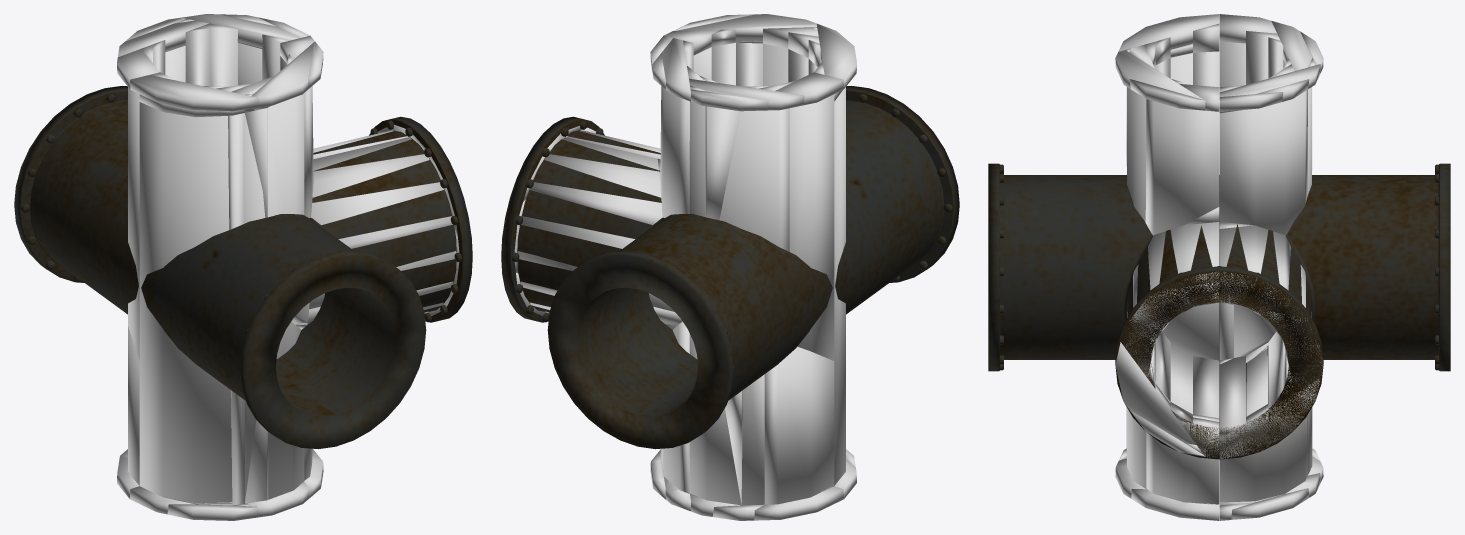
Rendered from SM_Pipes_Large_3_Directions.fbx.
3 views of the same model, side by side, from view 1: azimuth 30°, elevation 25°; view 2: azimuth 150°, elevation 25°; view 3: azimuth 270°, elevation 25° (orthographic).
Parts seen in each view (by area): view 1: SM_Pipes_Large_3_Directions, SM_Pipes_Large_3_Directions_ConvexHulls; view 2: SM_Pipes_Large_3_Directions, SM_Pipes_Large_3_Directions_ConvexHulls; view 3: SM_Pipes_Large_3_Directions_ConvexHulls, SM_Pipes_Large_3_Directions.
Boxes of the visible parts, box(x1,y1,x2,y2) form: SM_Pipes_Large_3_Directions: box(14, 86, 472, 449); SM_Pipes_Large_3_Directions_ConvexHulls: box(117, 14, 459, 520); SM_Pipes_Large_3_Directions: box(501, 86, 959, 449); SM_Pipes_Large_3_Directions_ConvexHulls: box(514, 14, 856, 520); SM_Pipes_Large_3_Directions_ConvexHulls: box(1115, 14, 1323, 520); SM_Pipes_Large_3_Directions: box(988, 163, 1450, 459).
Bounding box in the file's own units: 1.45 × 2 × 2.
